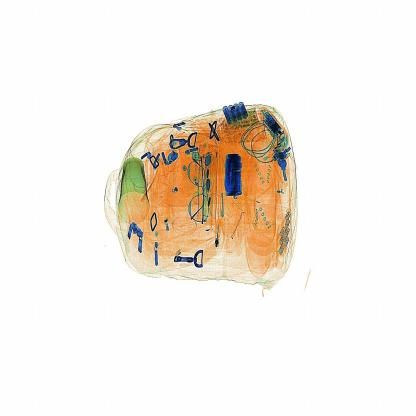scissors: (219, 148, 246, 206)
